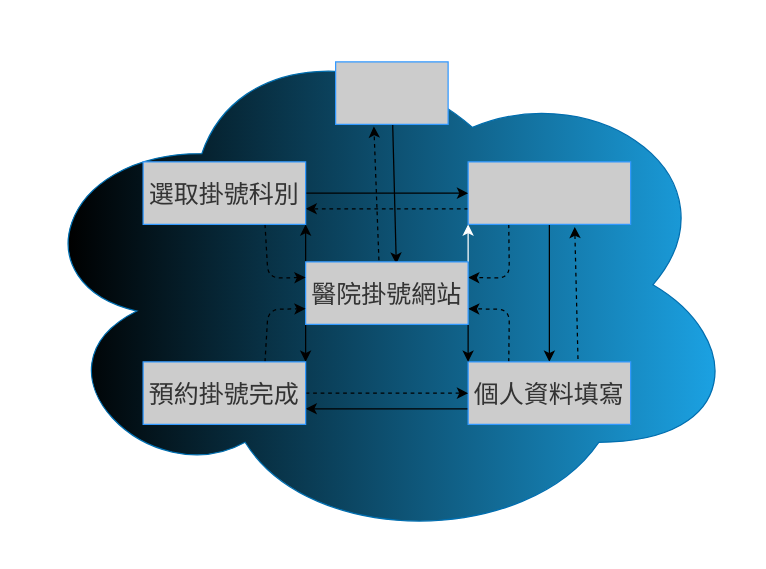
This 766x569 diagram has some shape labels left out. Here are the shapes that lost their labels. From the top down, the box of each, then its label:
(334, 61, 448, 124): 病人
(467, 161, 631, 224): 選擇看診時間
